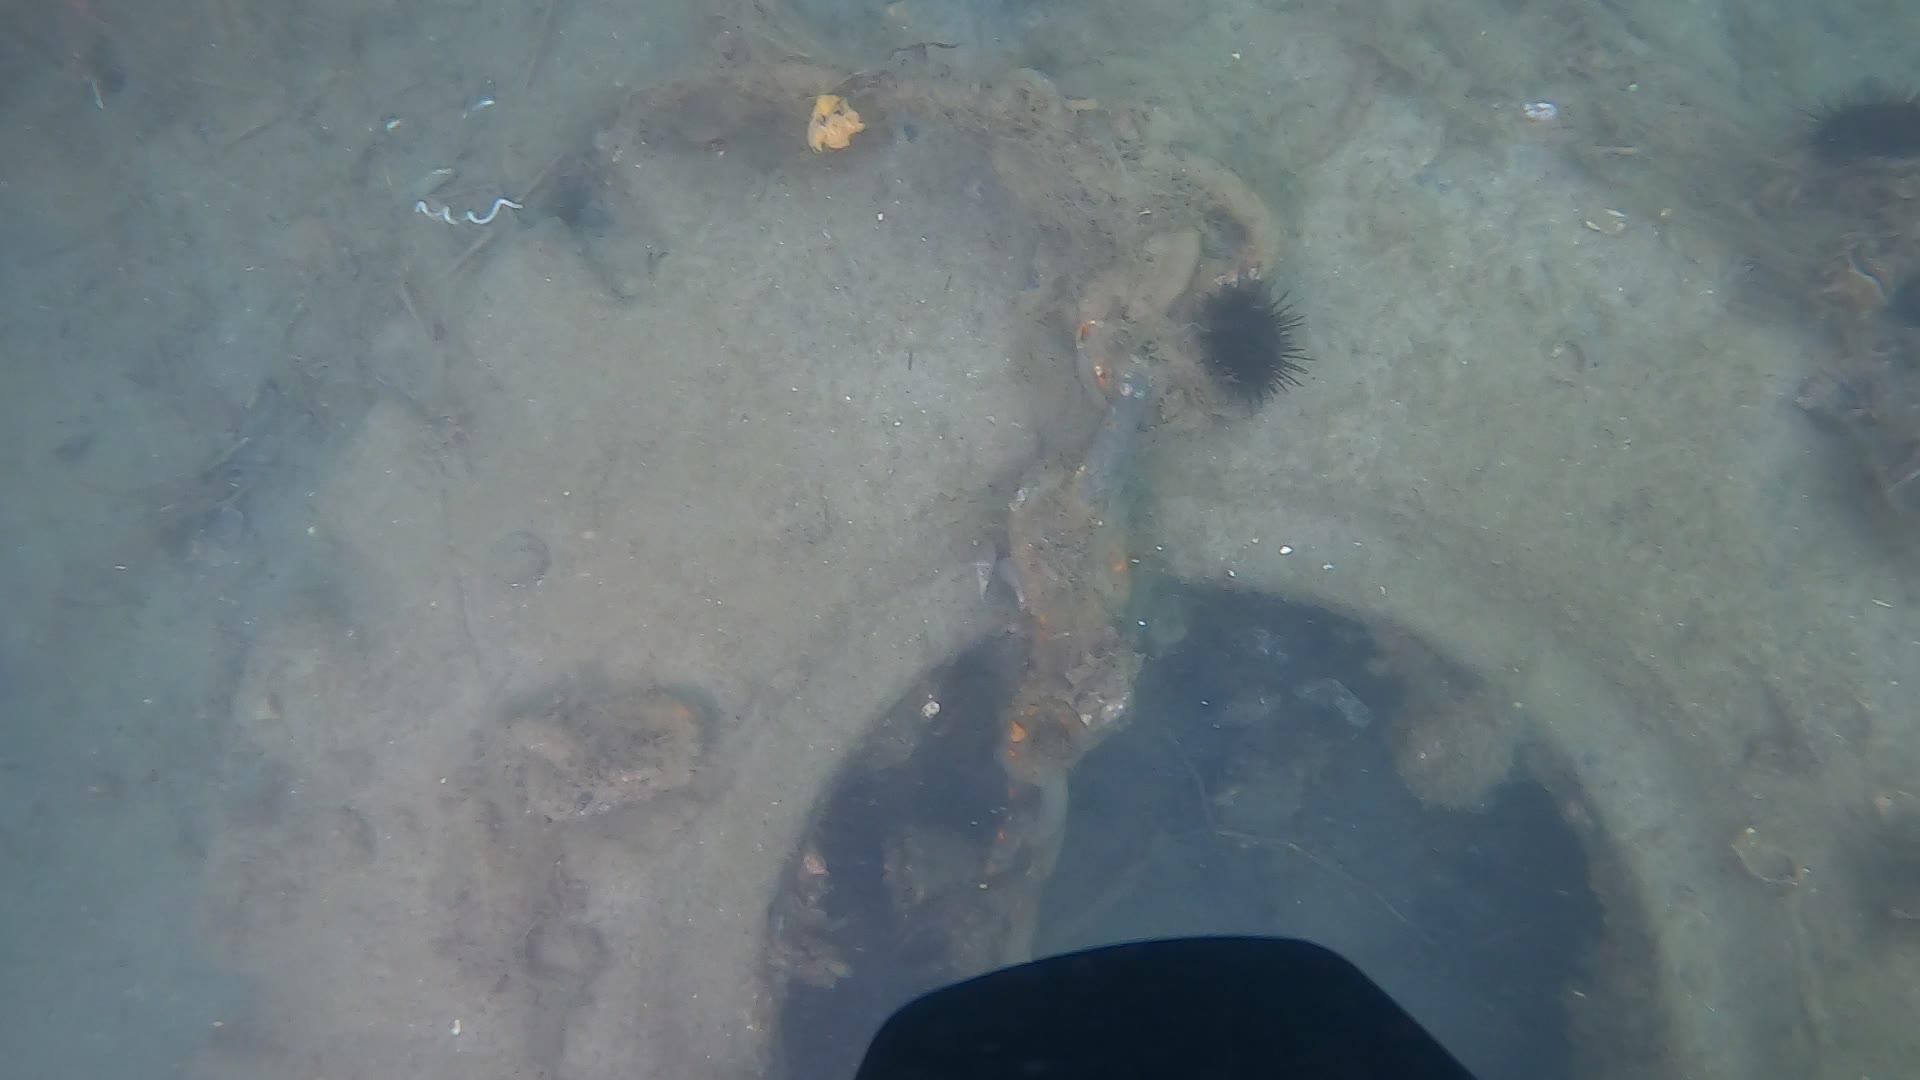tire: (193, 50, 1920, 1080)
